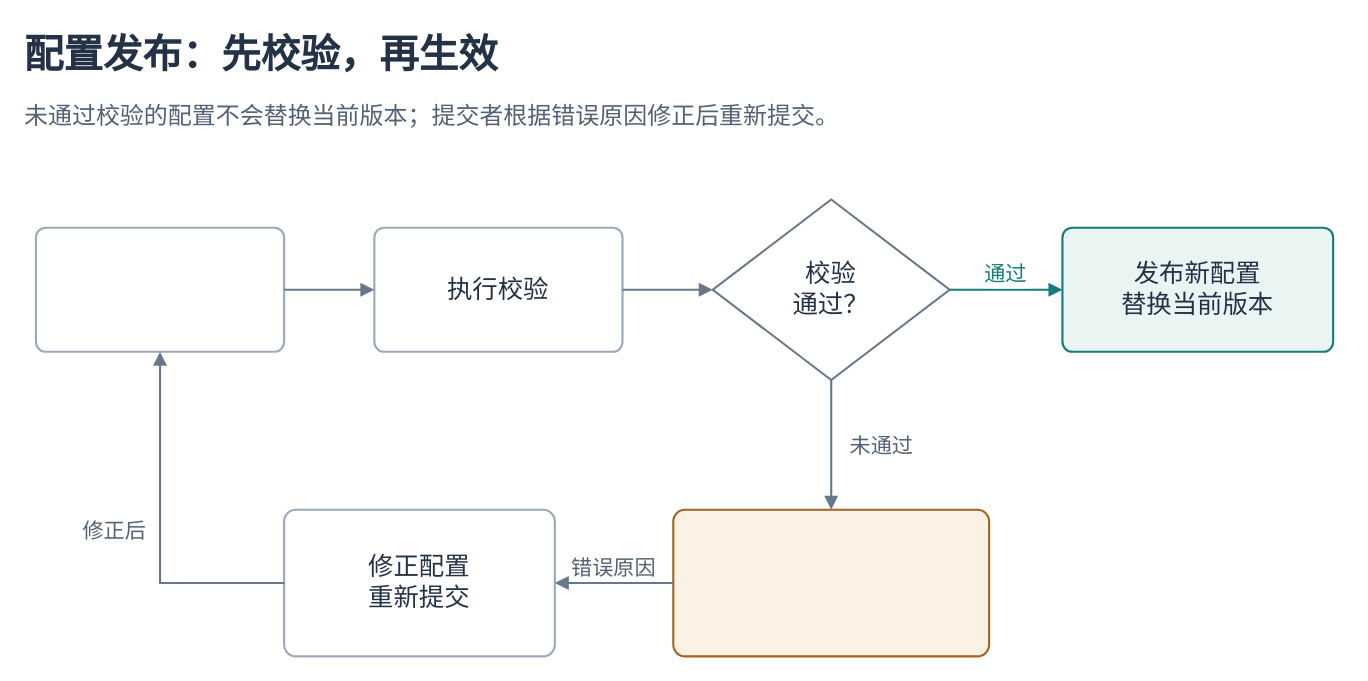
This 1368x681 diagram has some shape labels left out. The centre of each missing label's shape, as x and y in pixels:
拒绝发布 返回具体错误 当前配置保持生效: the point at 831,582
提交配置: the point at 159,289
